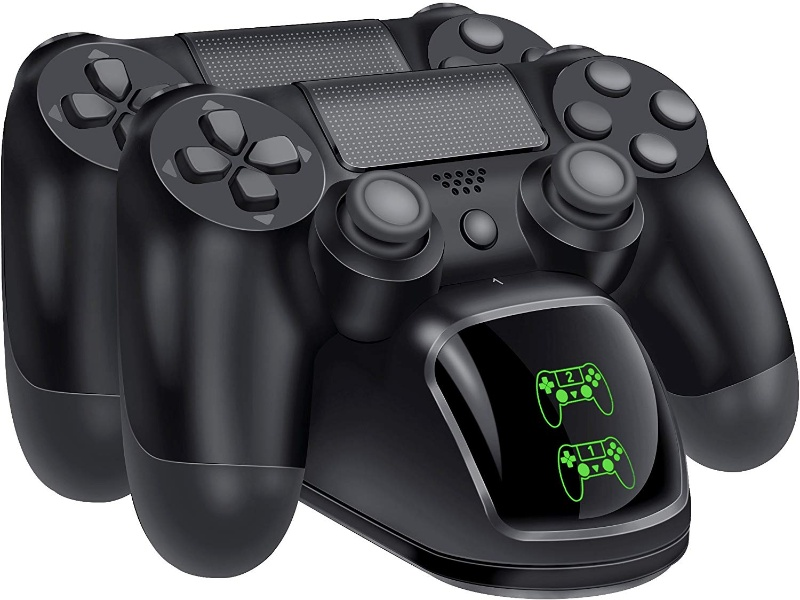ps4 joystick: (106, 42, 800, 573)
